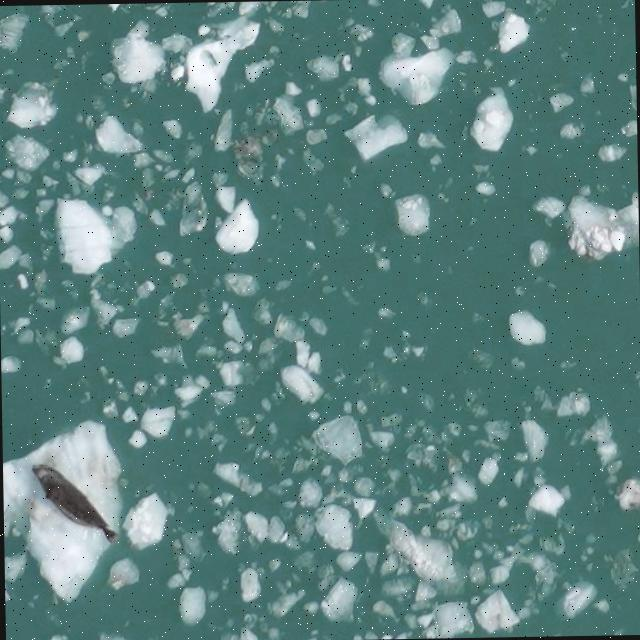seal: (30, 465, 116, 542)
